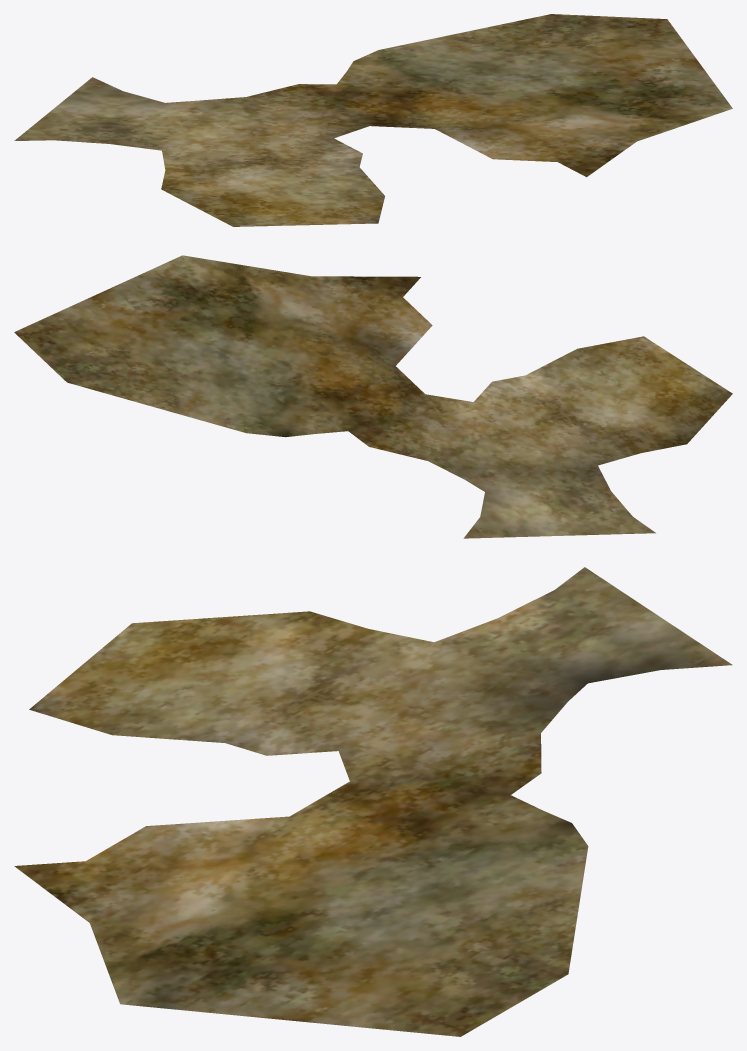
The model's file is TROLLHOLE02_ZRM_PSURF113.obj.
3 renders of one model, top to bottom at view 1: azimuth 30°, elevation 25°; view 2: azimuth 150°, elevation 25°; view 3: azimuth 270°, elevation 25°, orthographic. The views are drawn at different scales.
Visible parts, largest first — view 1: zRM_Psurf113; view 2: zRM_Psurf113; view 3: zRM_Psurf113.
Boxes of the visible parts, x1=… form: zRM_Psurf113: x1=14, y1=14, x2=732, y2=226; zRM_Psurf113: x1=14, y1=255, x2=732, y2=538; zRM_Psurf113: x1=14, y1=567, x2=732, y2=1036.
Bounding box in the file's own units: 2434 × 7.91 × 1568.
